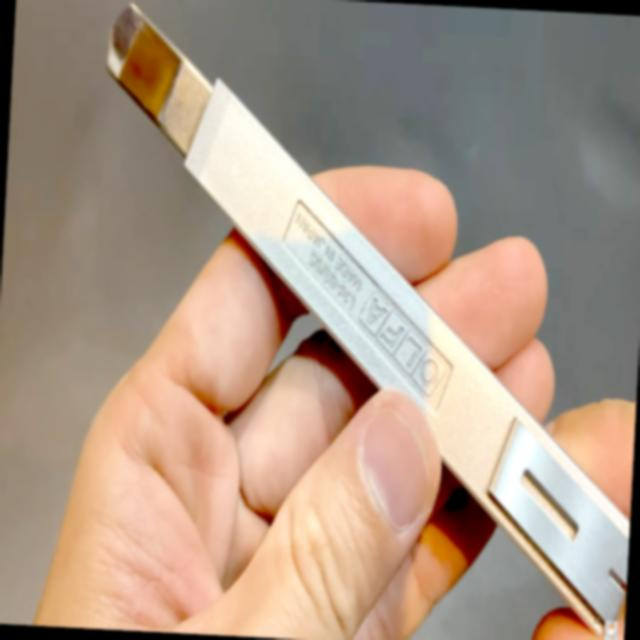cutter: (32, 0, 640, 613)
